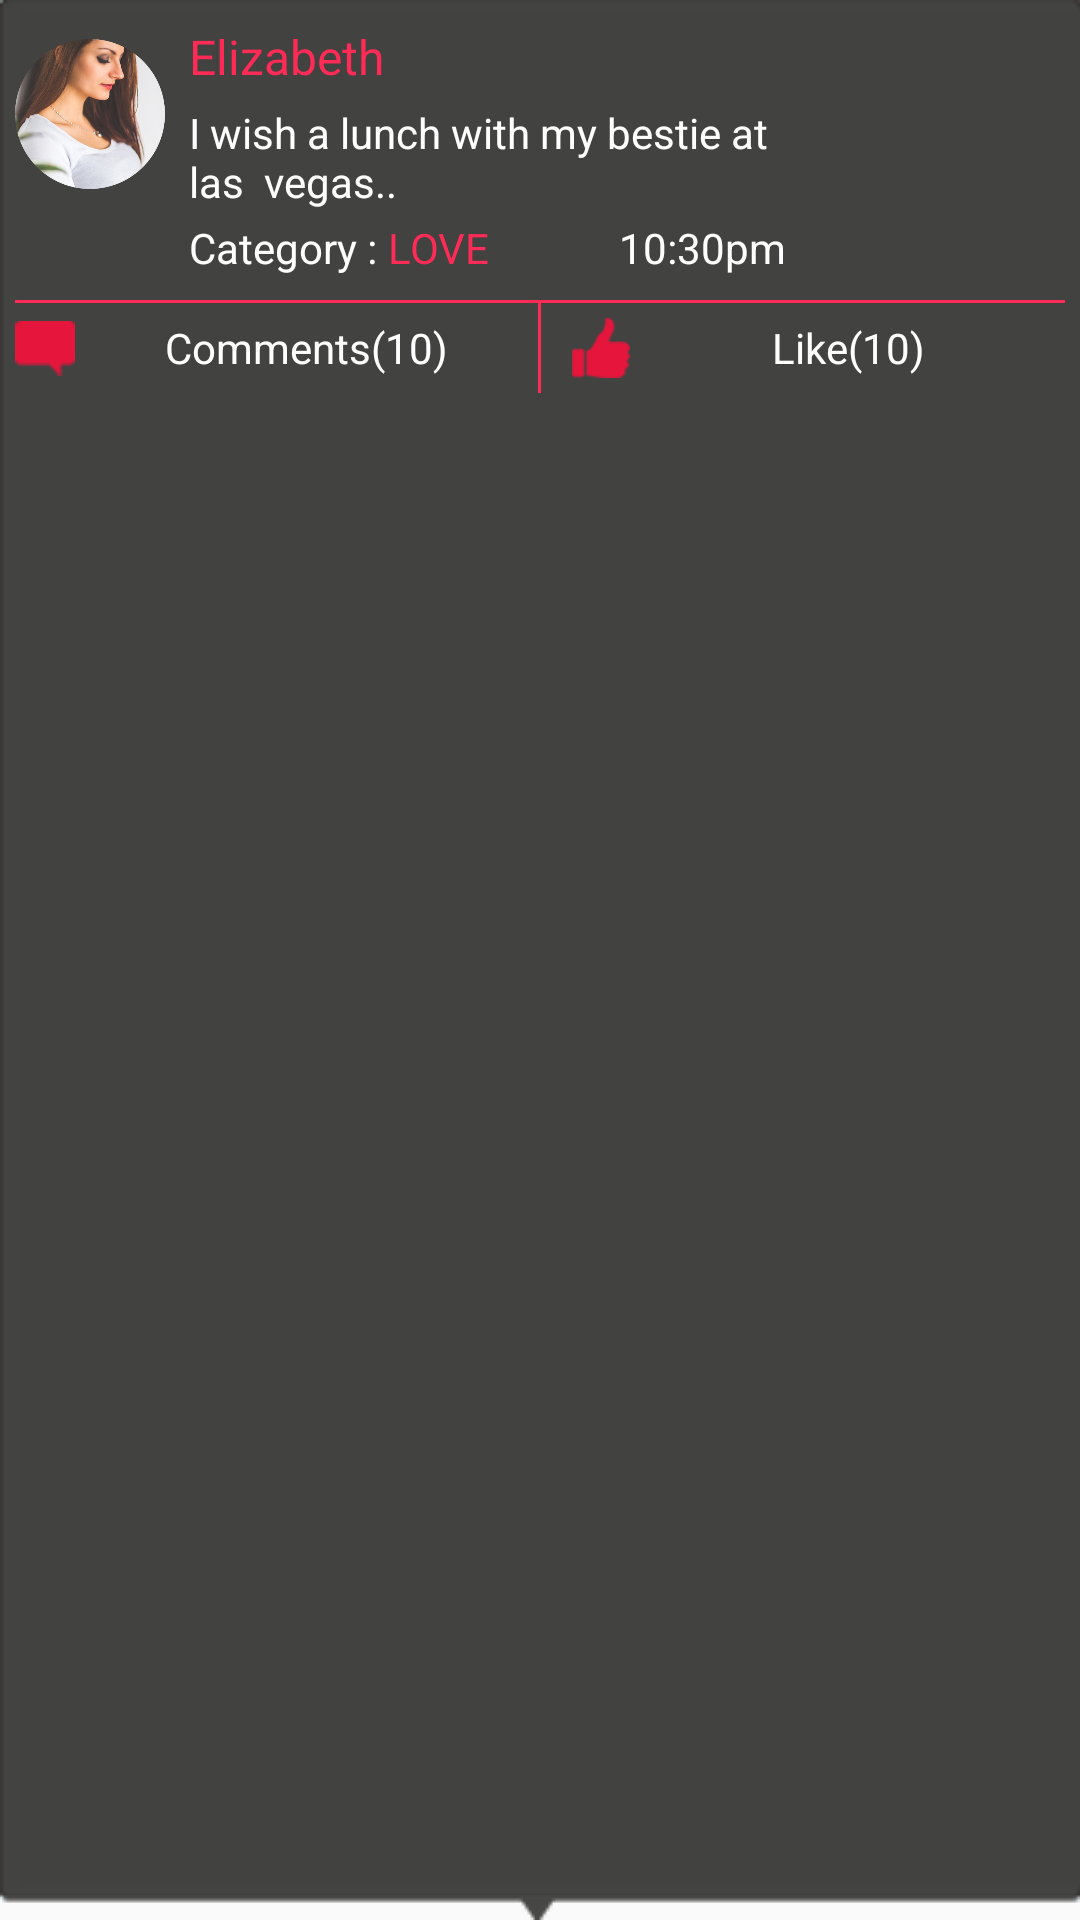

Where to tap for icons on this 1080x1920 app screen, as [x,y]:
liked: [601,348]
profile pic: [90,114]
